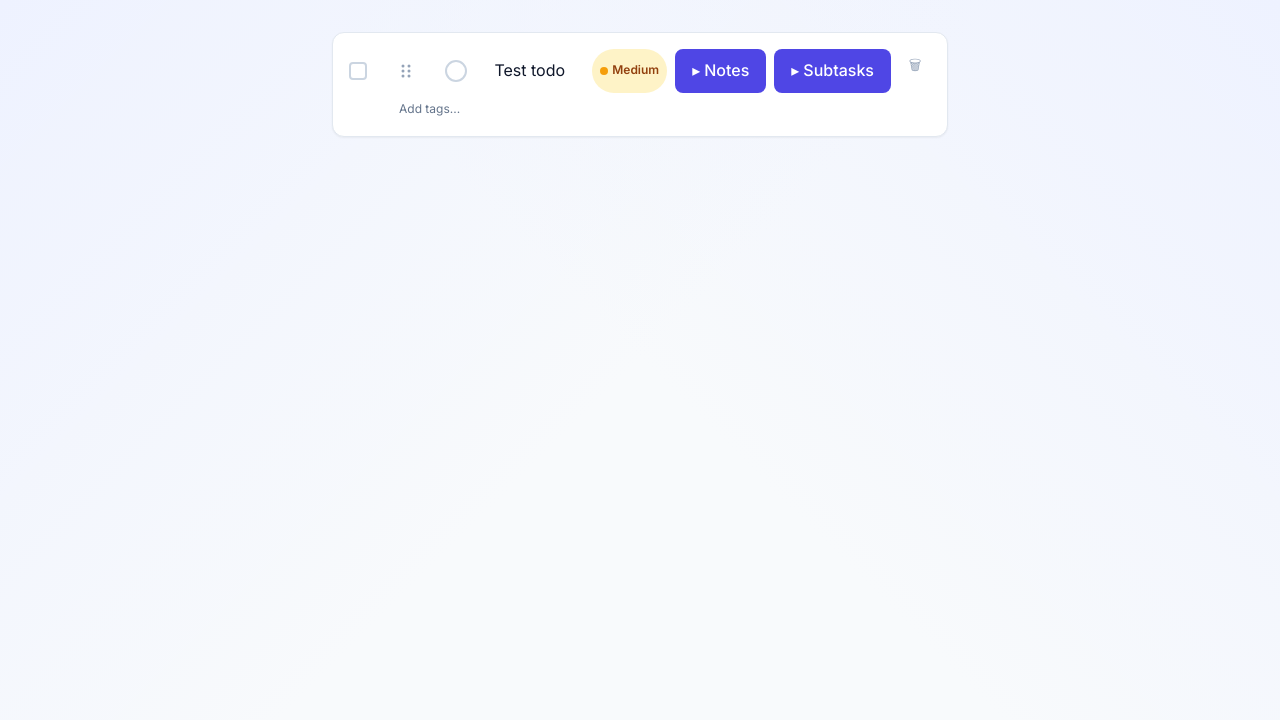
Test: TodoItem › shows modal overlay when delete button is clicked
Click the button named "delete". click: [915, 65]
box: [899,49,931,81]
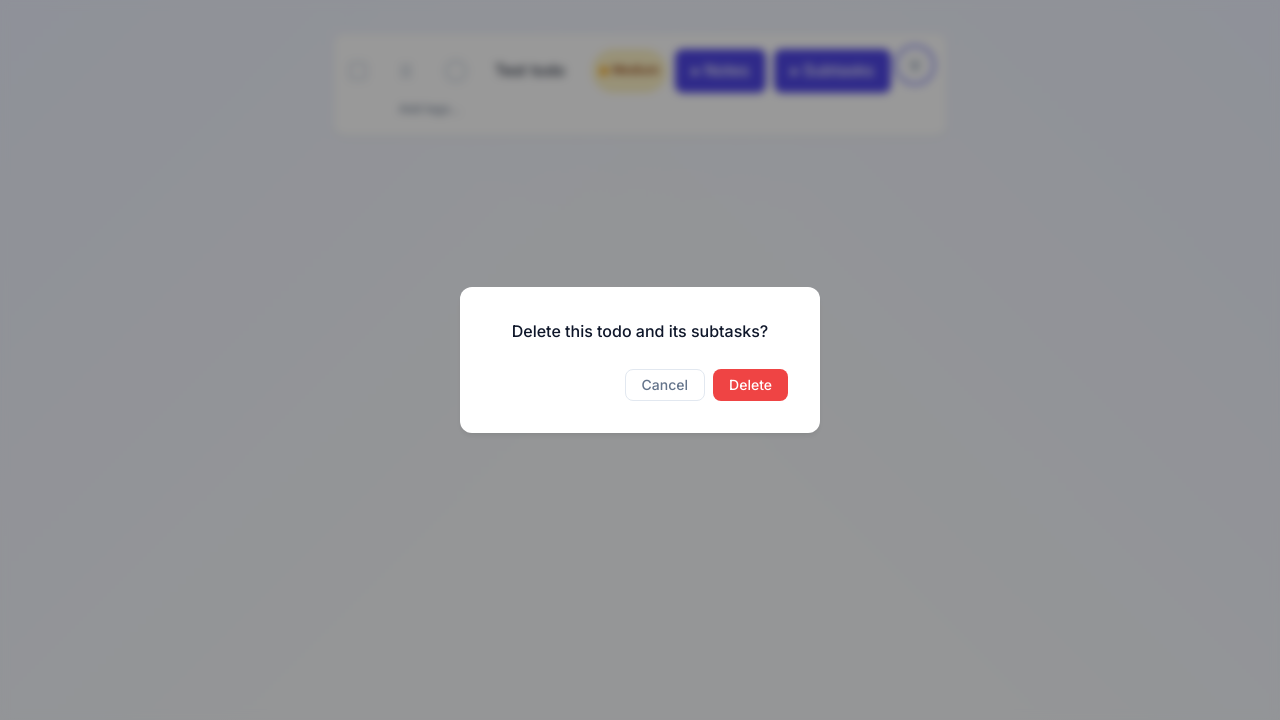
Check: the text "Delete this todo and its subtasks?" is shown, box [492,319,788,345]
Check: the element with class "delete-modal-overlay" is shown
Check: the dialog named "confirm deletion" is shown, box [460,287,820,433]
